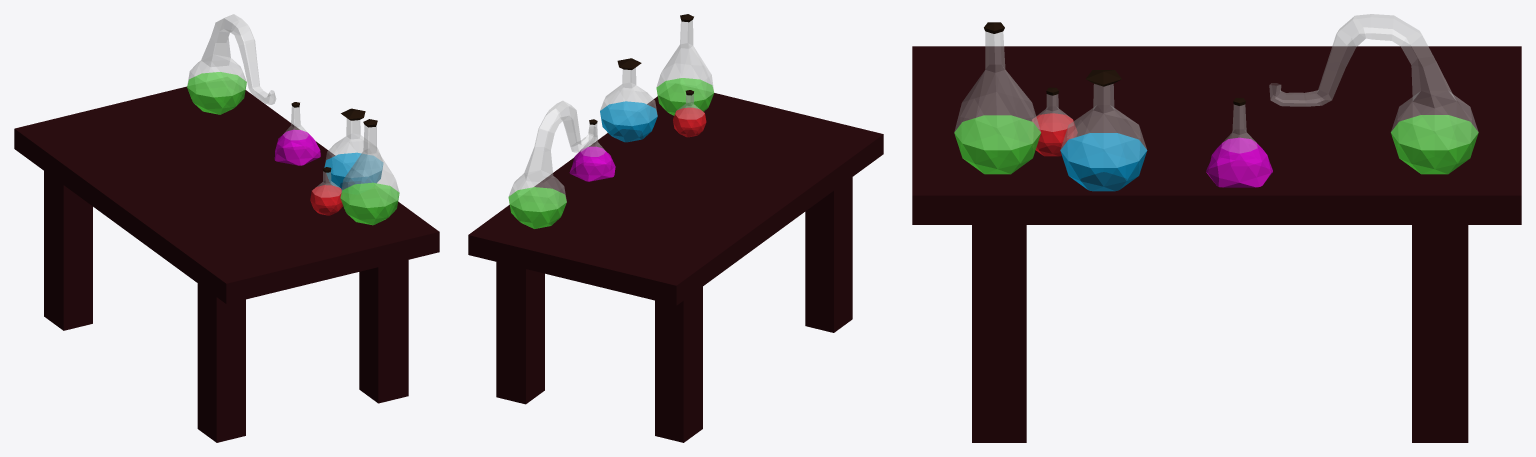
File: WorkbenchSetUp.fbx
3 renders of one model, left to right at view 1: azimuth 30°, elevation 25°; view 2: azimuth 150°, elevation 25°; view 3: azimuth 270°, elevation 25°, orthographic. The views are drawn at different scales.
Visible parts, largest first — view 1: Cube, Icosphere, GreenPotion, BluePotion, PurplePotion, RedPotion; view 2: Cube, Icosphere, GreenPotion, BluePotion, PurplePotion, RedPotion; view 3: Cube, Icosphere, GreenPotion, BluePotion, PurplePotion, RedPotion.
Part boxes in pixels (<box>): Cube: <box>14,86,439,442</box>; Icosphere: <box>187,14,276,114</box>; GreenPotion: <box>340,119,399,225</box>; BluePotion: <box>324,108,383,190</box>; PurplePotion: <box>274,102,320,165</box>; RedPotion: <box>310,167,342,215</box>; Cube: <box>468,93,883,442</box>; Icosphere: <box>508,101,596,228</box>; GreenPotion: <box>656,14,714,115</box>; BluePotion: <box>600,58,657,142</box>; PurplePotion: <box>569,119,615,181</box>; RedPotion: <box>673,90,706,137</box>; Cube: <box>912,46,1521,442</box>; Icosphere: <box>1269,14,1478,174</box>; GreenPotion: <box>954,22,1040,174</box>; BluePotion: <box>1060,70,1147,191</box>; PurplePotion: <box>1206,98,1272,187</box>; RedPotion: <box>1031,87,1077,156</box>.
Bounding box in the file's own units: 2.06 × 2.53 × 3.45.
